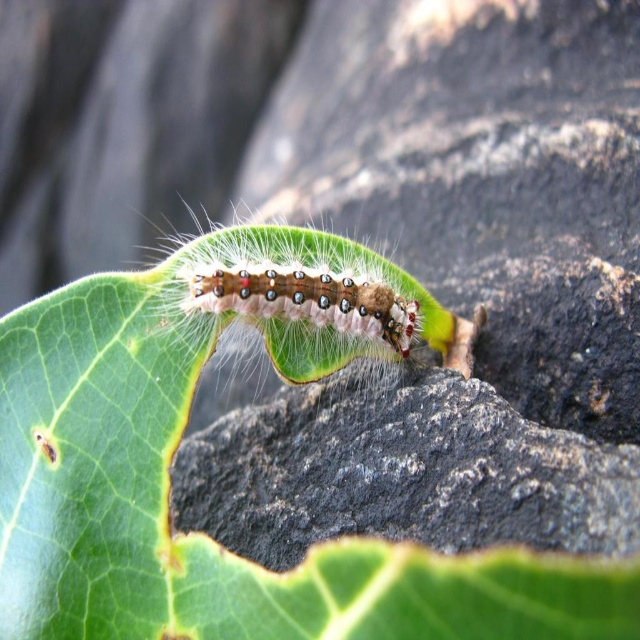Caterpillar: (116, 187, 443, 405)
